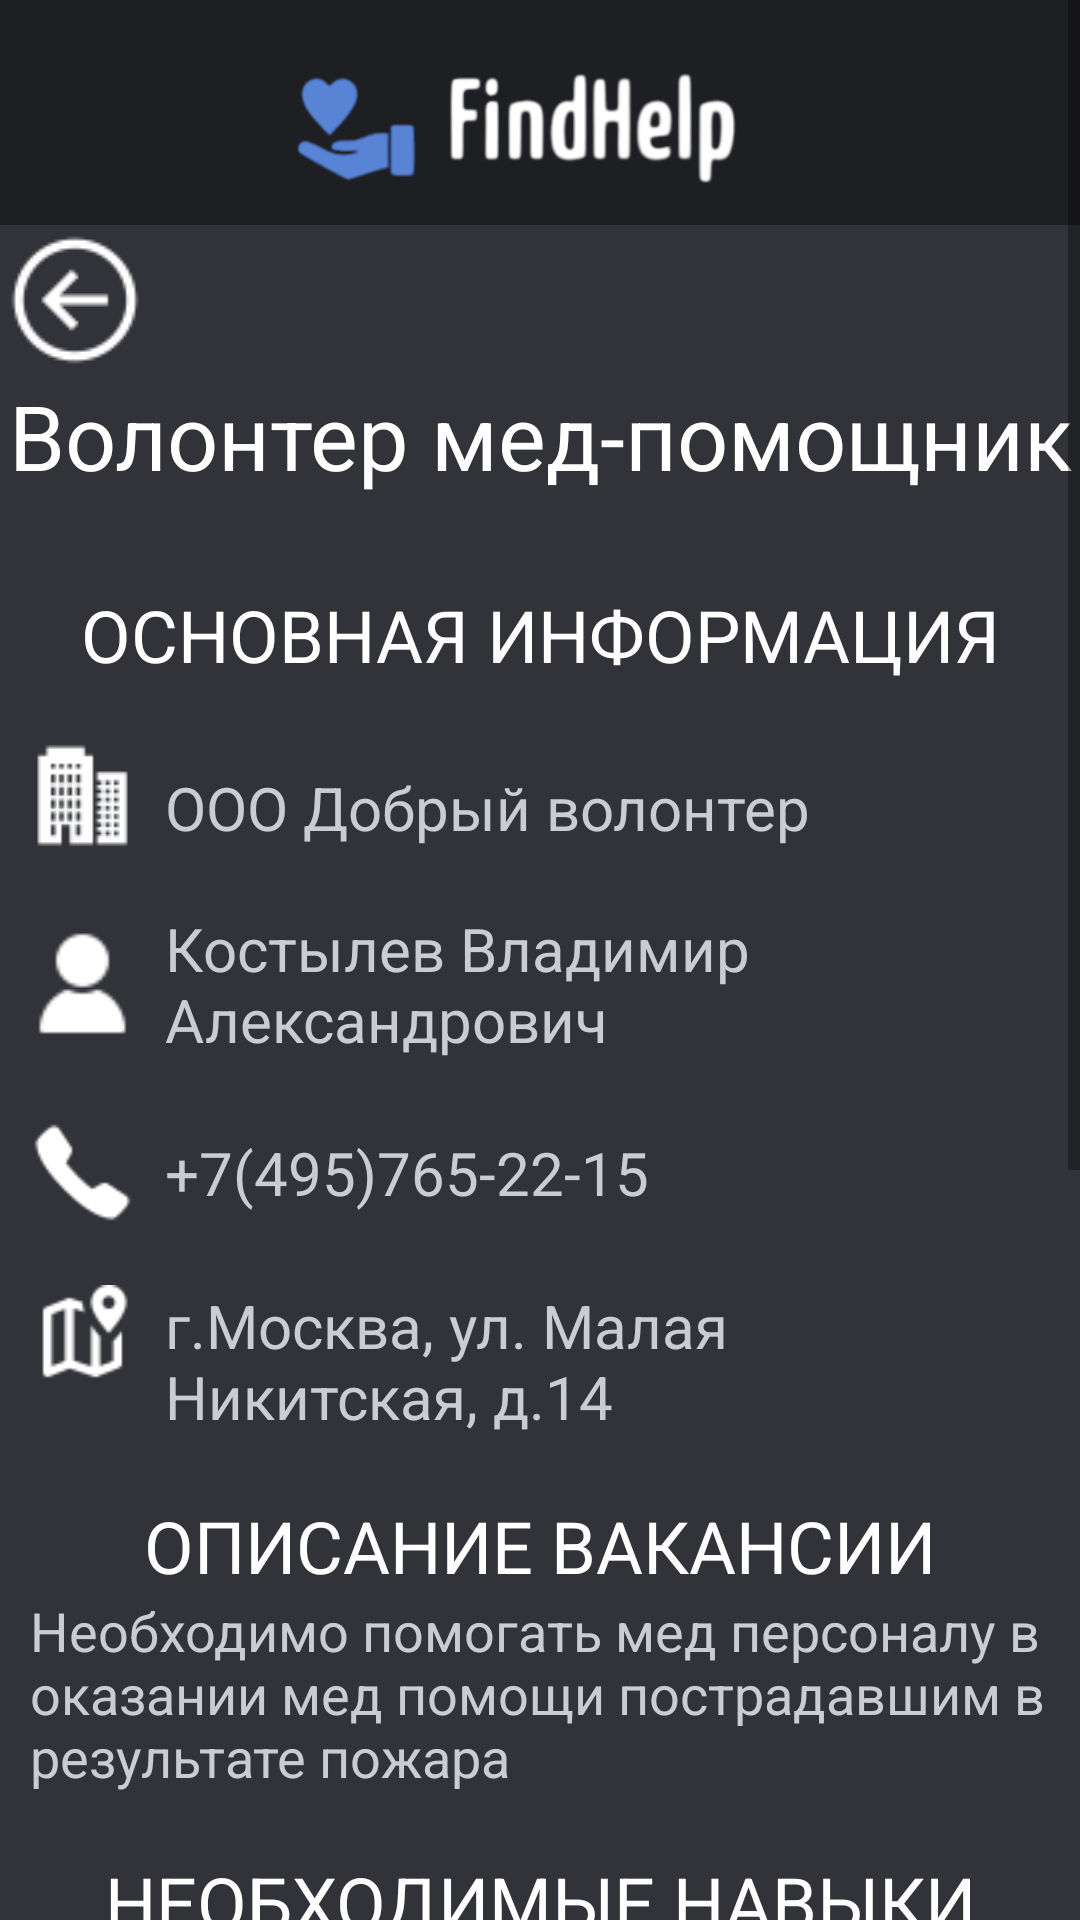

Icon bounding boxes for this 1080px×1920px phone screenshot, format (x1, y1, x2, y2):
city: (42, 1285, 128, 1378)
company: (37, 745, 128, 846)
contact: (39, 933, 126, 1034)
go back: (12, 237, 138, 363)
phone: (35, 1125, 130, 1220)
